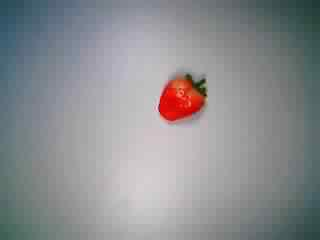strawberry: (151, 61, 211, 129)
